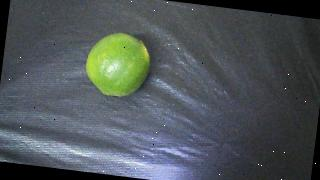LOCAL: (83, 29, 153, 100)
